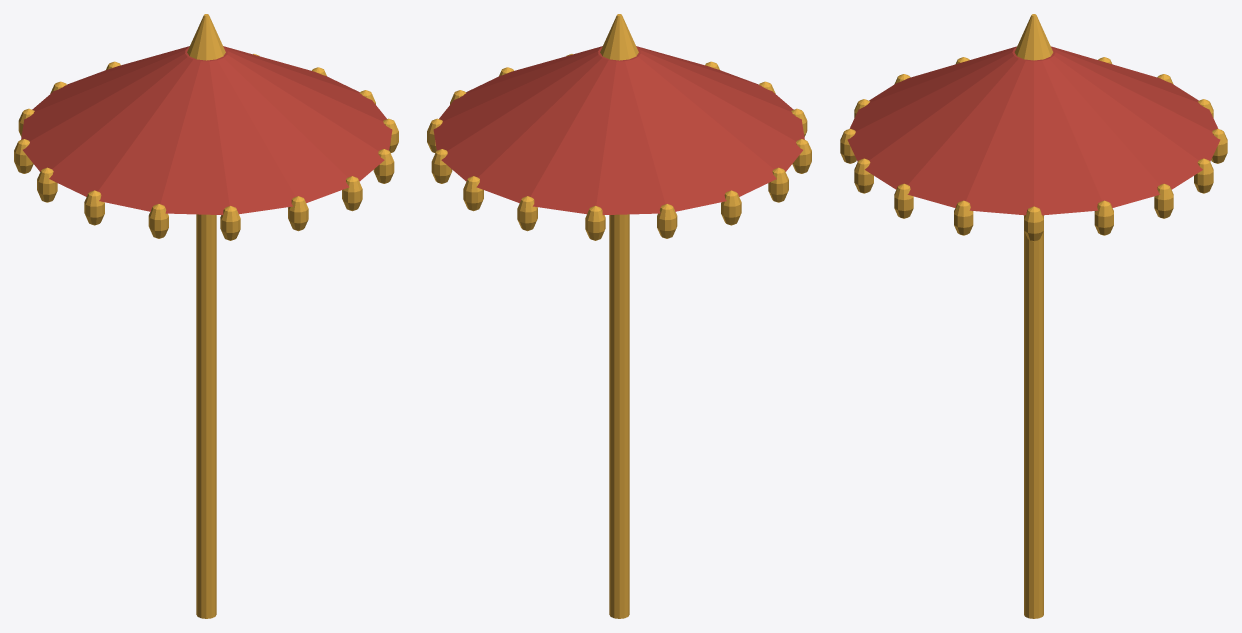
Rendered from 081_festival_parasol.glb.
3 views of the same model, side by side, from view 1: azimuth 30°, elevation 25°; view 2: azimuth 150°, elevation 25°; view 3: azimuth 270°, elevation 25° (orthographic).
Visible parts, largest first — view 1: Festival parasol; view 2: Festival parasol; view 3: Festival parasol.
Part boxes in pixels (<box>): Festival parasol: <box>14,14,398,618</box>; Festival parasol: <box>427,14,811,618</box>; Festival parasol: <box>840,14,1227,618</box>.
Size of the model in its own units: 1.8 by 3.06 by 1.79.
